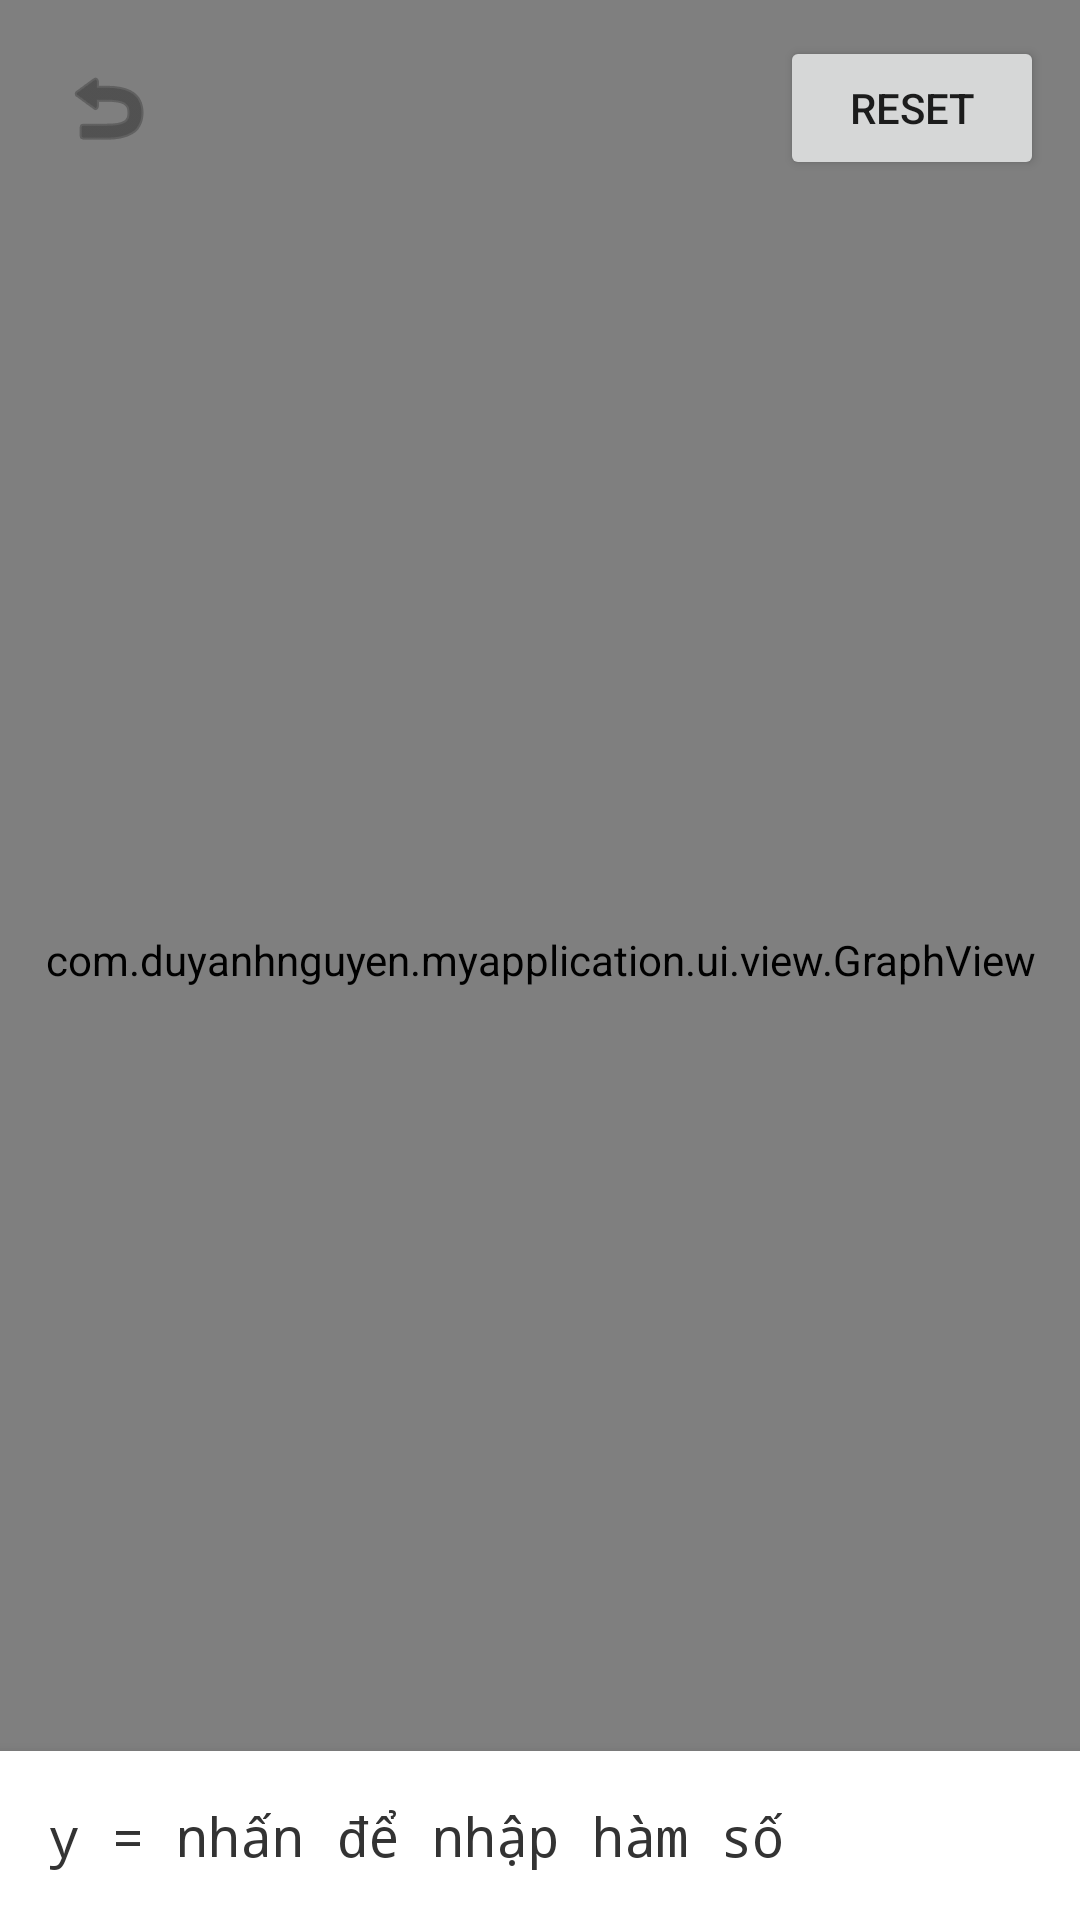

Icons on this 1080w x 1920h Android screen, each with the point to tap as (x,y):
Back: (109,108)
